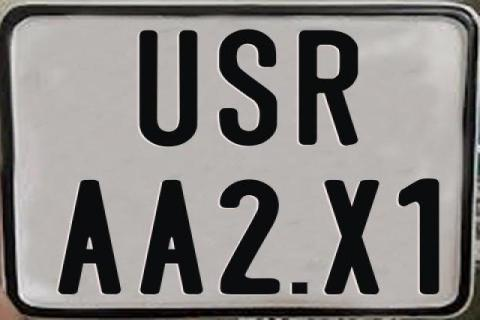0: (218, 177, 282, 295), (397, 177, 440, 295)
A: (57, 178, 124, 294), (140, 178, 206, 294)
R: (296, 28, 358, 146)
S: (219, 27, 279, 147)
U: (138, 28, 198, 146)
X: (323, 180, 384, 294)
